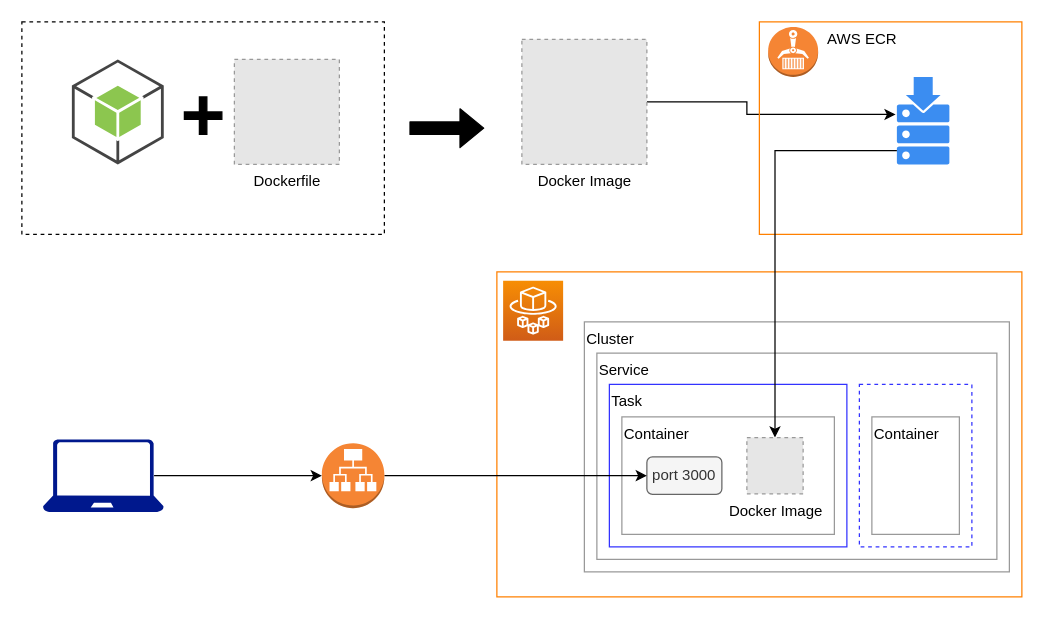
The diagram is 1044 pixels wide and 619 high, and some of its shapes have lost their labels. Grey dashed boxes stand in for pictures. Each missing label, with the box of its shape:
Application Load Balancer (ALB): (321, 442, 384, 508)
AWS ECS Fargate: (496, 271, 1022, 597)
Node.js web app: (71, 58, 164, 164)
Repository: (896, 76, 949, 164)
Task - scaled: (858, 383, 972, 547)
